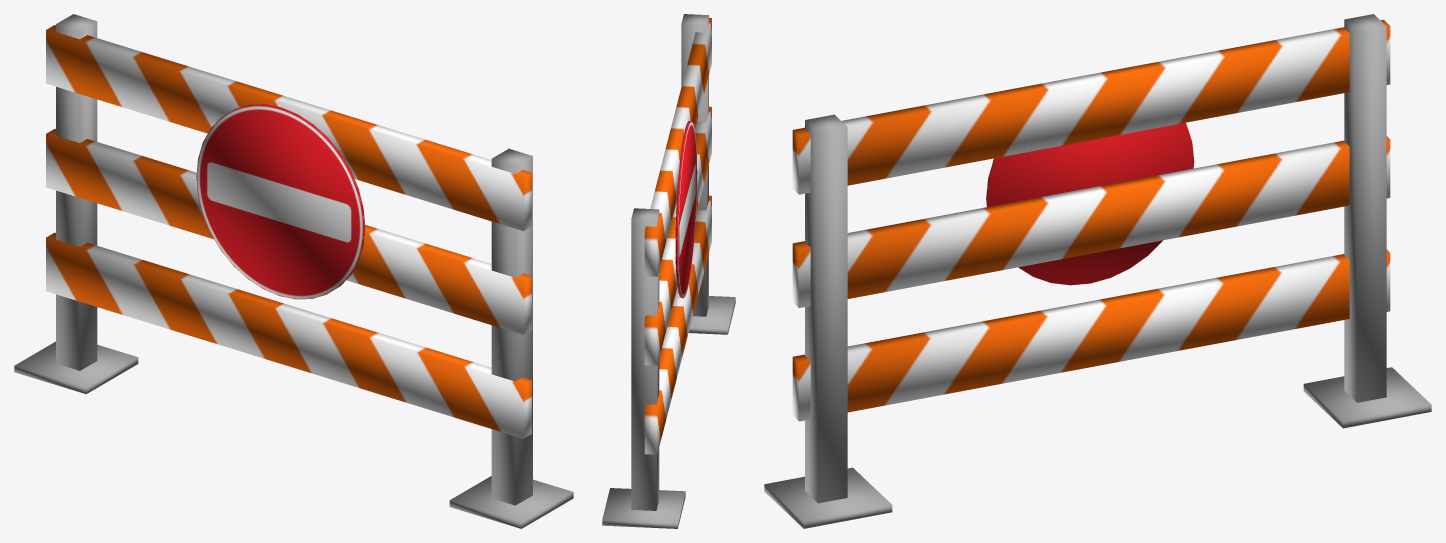
Rendered from road_close1.glb.
3 views of the same model, side by side, from view 1: azimuth 30°, elevation 25°; view 2: azimuth 150°, elevation 25°; view 3: azimuth 270°, elevation 25° (orthographic). The views are drawn at different scales.
Parts seen in each view (by area): view 1: s1.jpg__, s3.png__; view 2: s1.jpg__, s3.png__; view 3: s1.jpg__, s3.png__.
Boxes of the visible parts, x1,y1,x2,y2 form: s1.jpg__: [14, 14, 573, 528]; s3.png__: [196, 104, 365, 299]; s1.jpg__: [602, 14, 735, 528]; s3.png__: [675, 121, 697, 298]; s1.jpg__: [764, 14, 1431, 528]; s3.png__: [986, 122, 1194, 285].
Bounding box in the file's own units: 1.13 × 1.29 × 2.05.
Materials: 2 (2 with a texture image).
